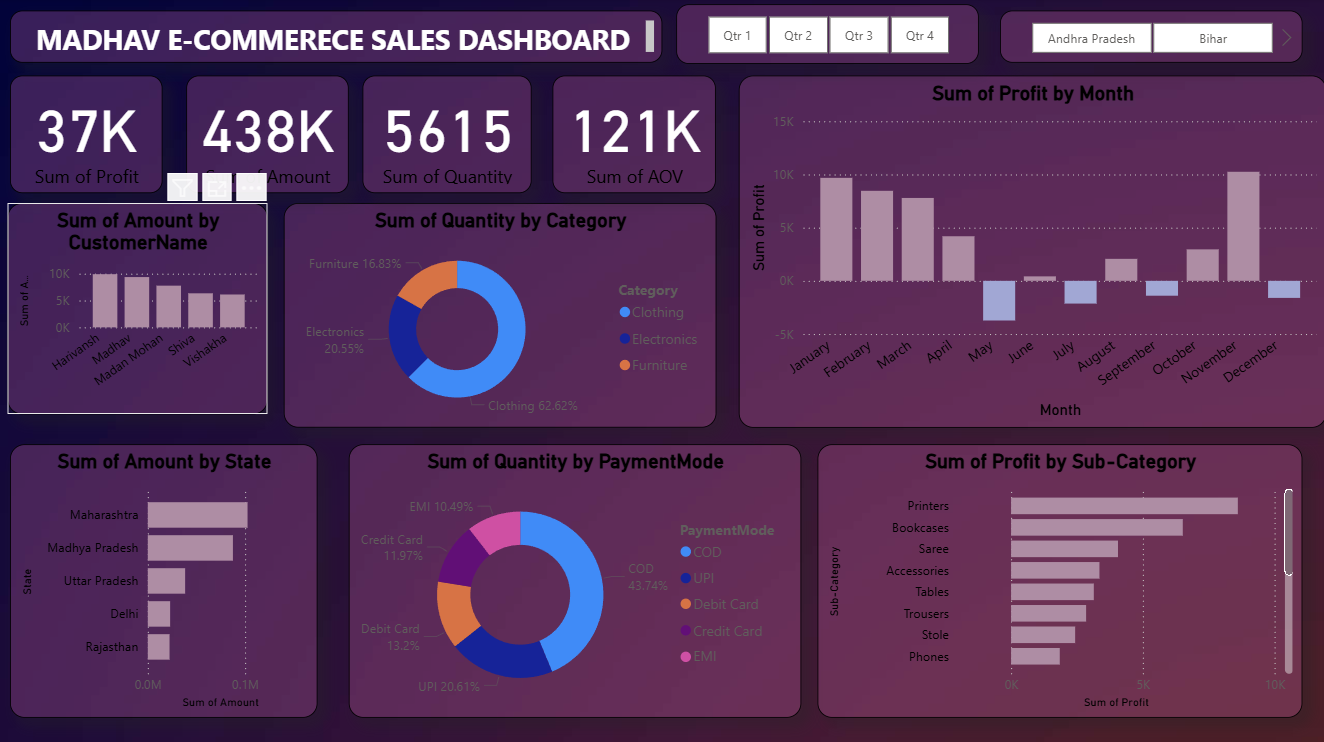

Layout of this report page (visuals, bound fields, positions):
{"tool":"powerbi","page":{"name":"Page 1","canvas":[1280,720],"ordinal":0},"visuals":[{"type":"textbox","box":[9.6,12.3,629.8,50.8],"z":1},{"type":"columnChart","fields":{"Category":["Orders.Order Date.Variation.Date Hierarchy.Month"],"Y":["Details.Profit"]},"box":[712.8,74.8,566.8,340.1],"z":2},{"type":"barChart","fields":{"Category":["Details.Sub-Category"],"Y":["Details.Profit"]},"box":[788.7,430.6,467.9,264.1],"z":3},{"type":"donutChart","fields":{"Category":["Details.Category"],"Y":["Details.Quantity"]},"box":[273.8,197.8,417.3,217.1],"z":4},{"type":"donutChart","fields":{"Y":["Details.Quantity"],"Category":["Details.PaymentMode"]},"box":[336.5,430.6,436.6,264.1],"z":5},{"type":"card","fields":{"Values":["Details.Amount"]},"box":[179.7,74.8,156.8,113.4],"z":6},{"type":"card","fields":{"Values":["Details.Profit"]},"box":[9.6,74.8,147.1,113.4],"z":7},{"type":"card","fields":{"Values":["Details.Quantity"]},"box":[349.7,74.8,162.8,113.4],"z":8},{"type":"card","fields":{"Values":["Details.AOV"]},"box":[533.1,74.8,158,113.4],"z":9},{"type":"barChart","fields":{"Y":["Details.Amount"],"Category":["Orders.State"]},"box":[9.6,430.6,296.7,264.1],"z":10},{"type":"columnChart","fields":{"Category":["Orders.CustomerName"],"Y":["Details.Amount"]},"box":[7.2,197.8,250.9,203.8],"z":11},{"type":"slicer","fields":{"Values":["Orders.Order Date.Variation.Date Hierarchy.Quarter"]},"box":[653.2,5.5,292.3,57.6],"z":12},{"type":"slicer","fields":{"Values":["Orders.State"]},"box":[964.7,12.3,292.3,50.8],"z":13}]}

Visuals, with their boxes in screenshot pixels (x1, y1, x2, y2), scaled from the page's 1280x720 canvas onto the 1324x742 screenshot:
textbox: box=[10, 13, 661, 65]
columnChart - Orders.Order Date.Variation.Date Hierarchy.Month x Details.Profit: box=[737, 77, 1323, 428]
barChart - Details.Sub-Category x Details.Profit: box=[816, 444, 1300, 716]
donutChart - Details.Category x Details.Quantity: box=[283, 204, 715, 428]
donutChart - Details.Quantity x Details.PaymentMode: box=[348, 444, 800, 716]
card - Details.Amount: box=[186, 77, 348, 194]
card - Details.Profit: box=[10, 77, 162, 194]
card - Details.Quantity: box=[362, 77, 530, 194]
card - Details.AOV: box=[551, 77, 715, 194]
barChart - Details.Amount x Orders.State: box=[10, 444, 317, 716]
columnChart - Orders.CustomerName x Details.Amount: box=[7, 204, 267, 414]
slicer - Orders.Order Date.Variation.Date Hierarchy.Quarter: box=[676, 6, 978, 65]
slicer - Orders.State: box=[998, 13, 1300, 65]
